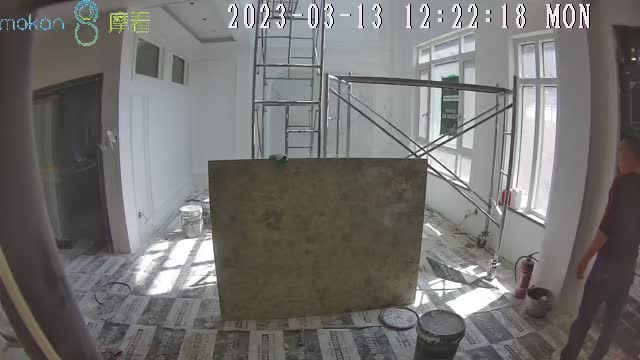people: (561, 137, 638, 360)
window: (411, 27, 476, 187), (509, 37, 556, 217)
